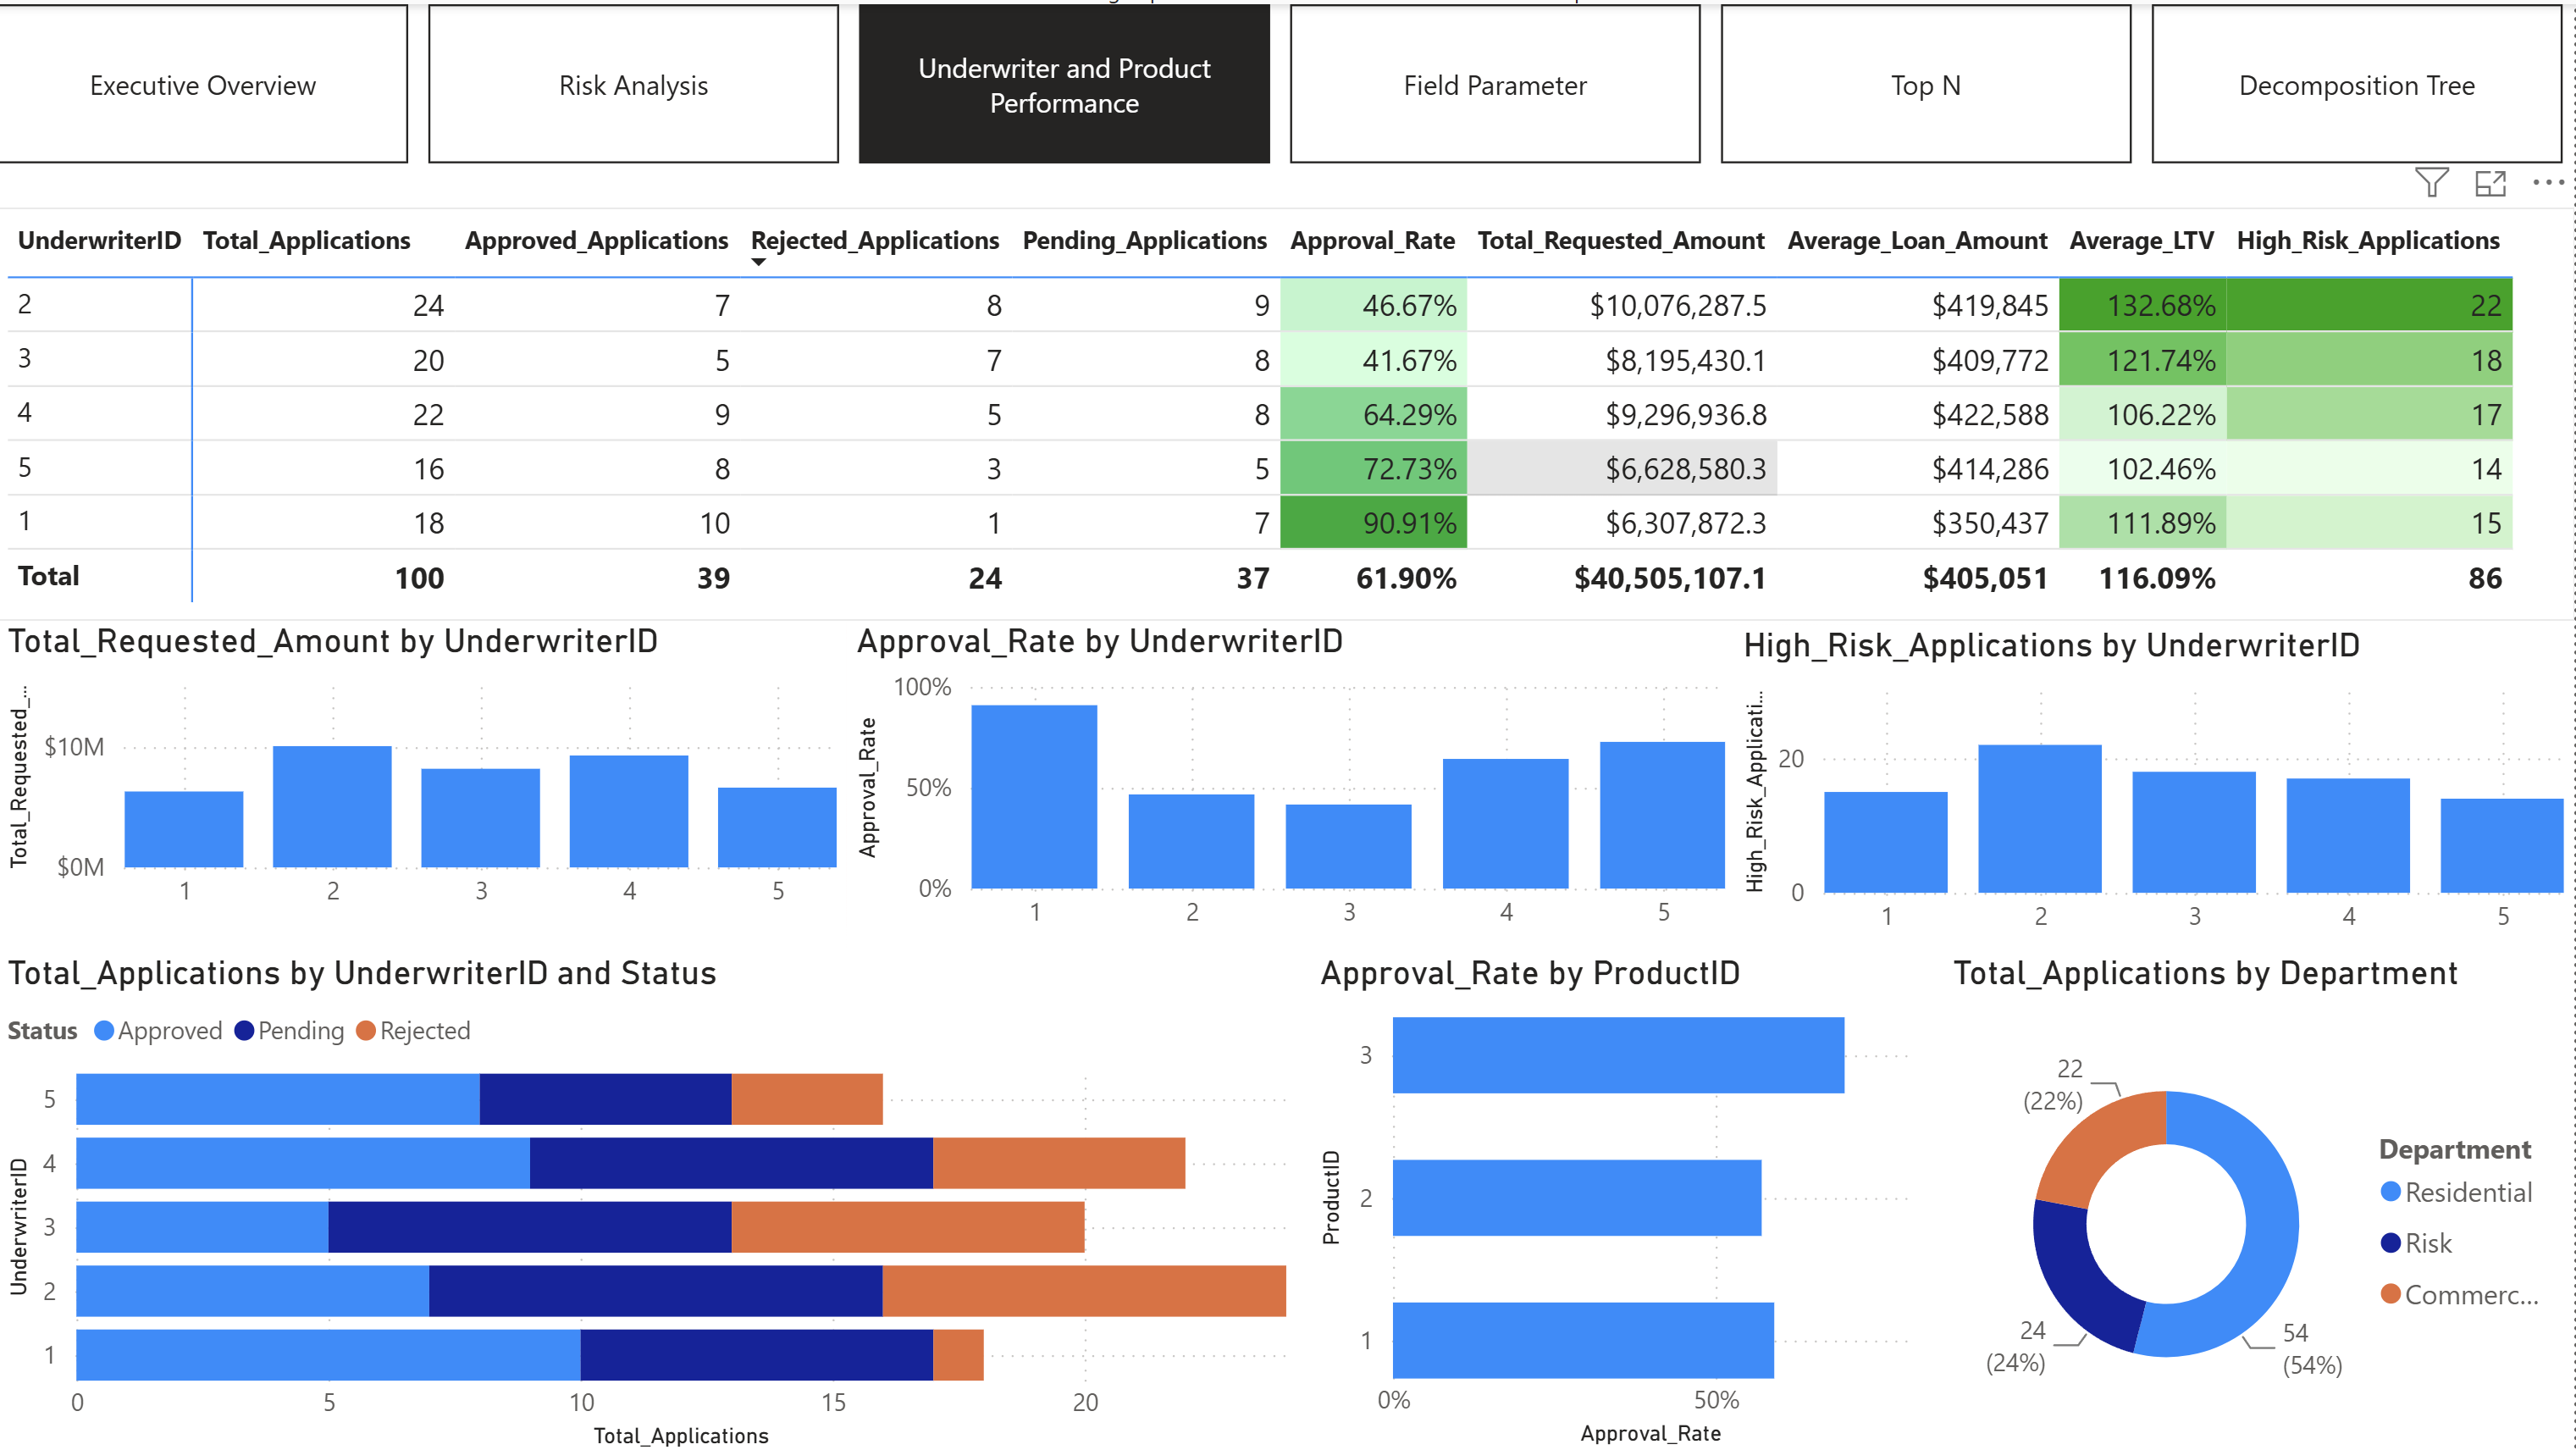

This screenshot's page, from the dashboard's own definition file:
{"tool":"powerbi","page":{"name":"Underwriter and Product Performance","canvas":[1280,720],"ordinal":2},"visuals":[{"type":"barChart","fields":{"Y":["Measure_Table.Total_Applications"],"Category":["DimUnderwriters.UnderwriterID"],"Series":["FactApplications.Status"]},"box":[0,471,651.9,250.2],"z":0},{"type":"columnChart","fields":{"Category":["DimUnderwriters.UnderwriterID"],"Y":["Measure_Table.Approval_Rate"]},"box":[421.6,306,441.6,163],"z":1000},{"type":"clusteredColumnChart","fields":{"Category":["DimUnderwriters.UnderwriterID"],"Y":["Measure_Table.Total_Requested_Amount"]},"box":[0,306,421.6,152.5],"z":2000},{"type":"barChart","fields":{"Category":["DimProducts.ProductID"],"Y":["Measure_Table.Approval_Rate"]},"box":[651.9,471,314.4,249.2],"z":3000},{"type":"donutChart","fields":{"Category":["DimUnderwriters.Department"],"Y":["Measure_Table.Total_Applications"]},"box":[966.2,471,314.4,250.2],"z":4000},{"type":"columnChart","fields":{"Y":["Measure_Table.High_Risk_Applications"],"Category":["DimUnderwriters.UnderwriterID"]},"box":[862.2,308.1,417.4,163],"z":5000},{"type":"pivotTable","fields":{"Rows":["DimUnderwriters.UnderwriterID"],"Values":["Measure_Table.Total_Applications","Measure_Table.Approved_Applications","Measure_Table.Rejected_Applications","Measure_Table.Pending_Applications","Measure_Table.Approval_Rate","Measure_Table.Total_Requested_Amount","Measure_Table.Average_Loan_Amount","Measure_Table.Average_LTV","Measure_Table.High_Risk_Applications"]},"box":[0,100.9,1280.6,205],"z":6000},{"type":"pageNavigator","box":[0,0,1279.6,79.9],"z":6001}]}

Visuals, with their boxes in screenshot pixels (x1, y1, x2, y2), scaled from the page's 1280x720 canvas onto the 2576x1450 screenshot:
barChart - Measure_Table.Total_Applications x DimUnderwriters.UnderwriterID: <box>0,949,1312,1449</box>
columnChart - DimUnderwriters.UnderwriterID x Measure_Table.Approval_Rate: <box>849,617,1737,944</box>
clusteredColumnChart - DimUnderwriters.UnderwriterID x Measure_Table.Total_Requested_Amount: <box>0,617,849,923</box>
barChart - DimProducts.ProductID x Measure_Table.Approval_Rate: <box>1312,949,1944,1449</box>
donutChart - DimUnderwriters.Department x Measure_Table.Total_Applications: <box>1944,949,2575,1449</box>
columnChart - Measure_Table.High_Risk_Applications x DimUnderwriters.UnderwriterID: <box>1735,621,2575,949</box>
pivotTable - DimUnderwriters.UnderwriterID x Measure_Table.Total_Applications: <box>0,203,2575,616</box>
pageNavigator: <box>0,0,2575,161</box>
